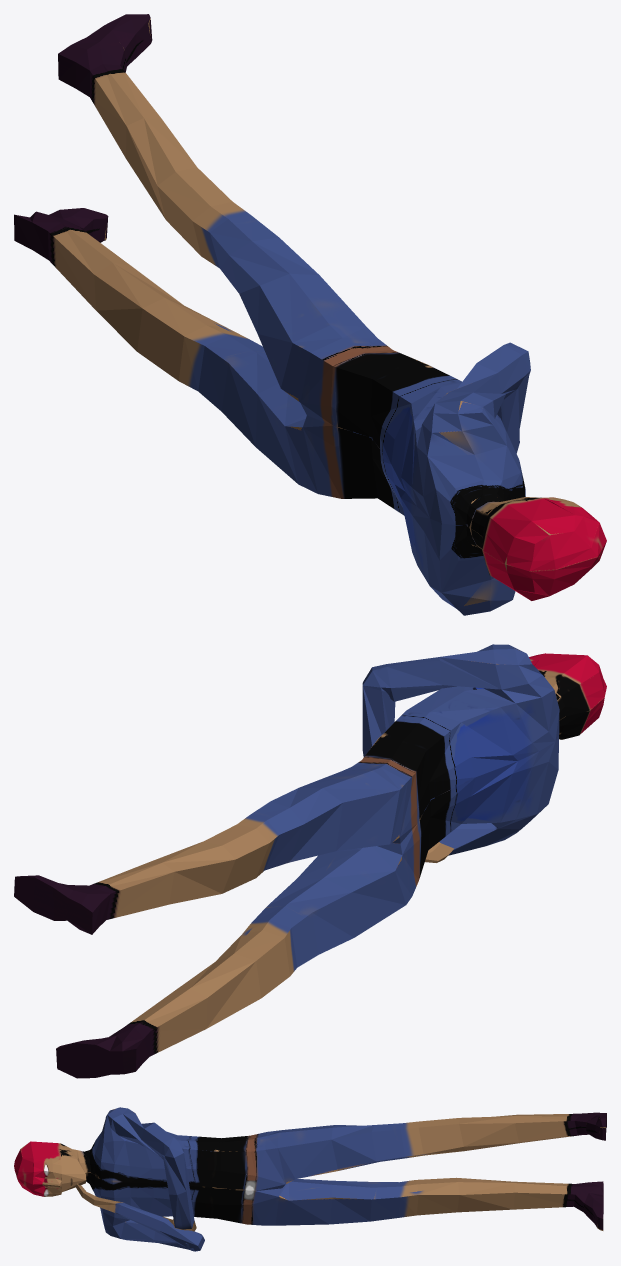
File: mirrorman_000027.obj
3 renders of one model, top to bottom at view 1: azimuth 30°, elevation 25°; view 2: azimuth 150°, elevation 25°; view 3: azimuth 270°, elevation 25°, orthographic. The views are drawn at different scales.
Parts seen in each view (by area): view 1: mirrorman_Cube.001_Material.001; view 2: mirrorman_Cube.001_Material.001; view 3: mirrorman_Cube.001_Material.001.
Boxes of the visible parts, x1,y1,x2,y2 form: mirrorman_Cube.001_Material.001: [14, 14, 606, 615]; mirrorman_Cube.001_Material.001: [14, 644, 606, 1078]; mirrorman_Cube.001_Material.001: [14, 1107, 606, 1251].
Size of the model in its own units: 0.3504 by 0.501 by 1.9.
